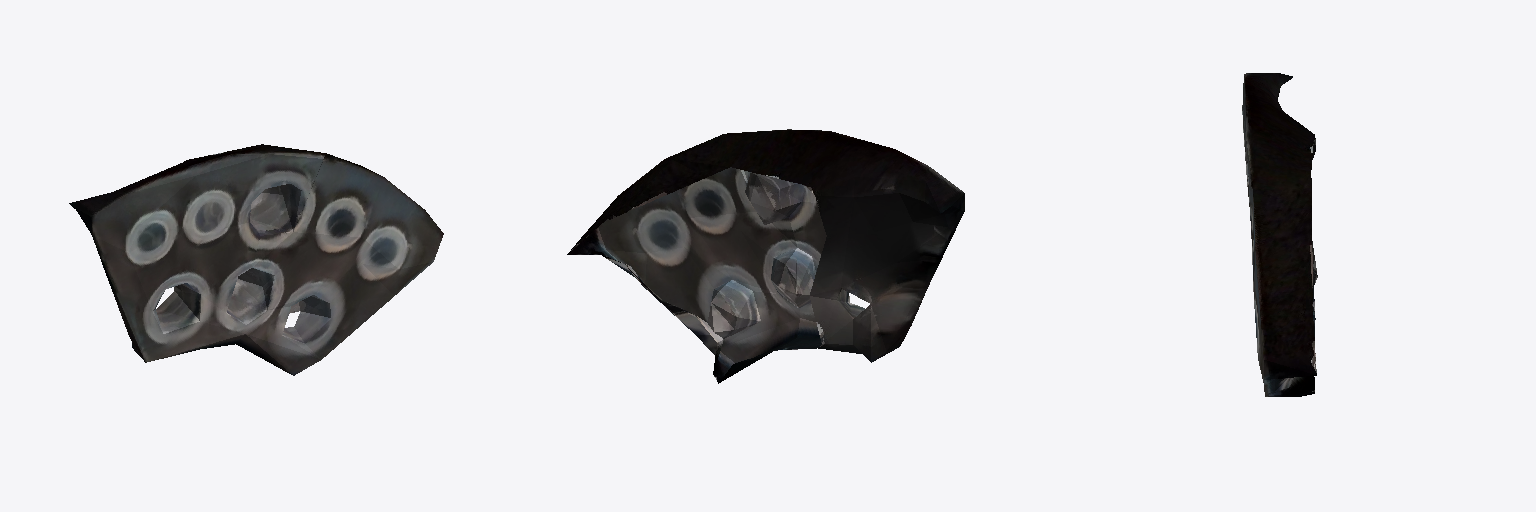
3 views of the same model, side by side, from view 1: azimuth 30°, elevation 25°; view 2: azimuth 150°, elevation 25°; view 3: azimuth 270°, elevation 25° (orthographic).
Parts seen in each view (by area): view 1: Object; view 2: Object; view 3: Object.
Boxes of the visible parts, box(x1,y1,x2,y2) form: Object: box(69, 144, 443, 375); Object: box(567, 129, 964, 383); Object: box(1242, 73, 1317, 396).
Bounding box in the file's own units: 0.0928 × 0.0602 × 0.0166.
Materials: 1 (1 with a texture image).